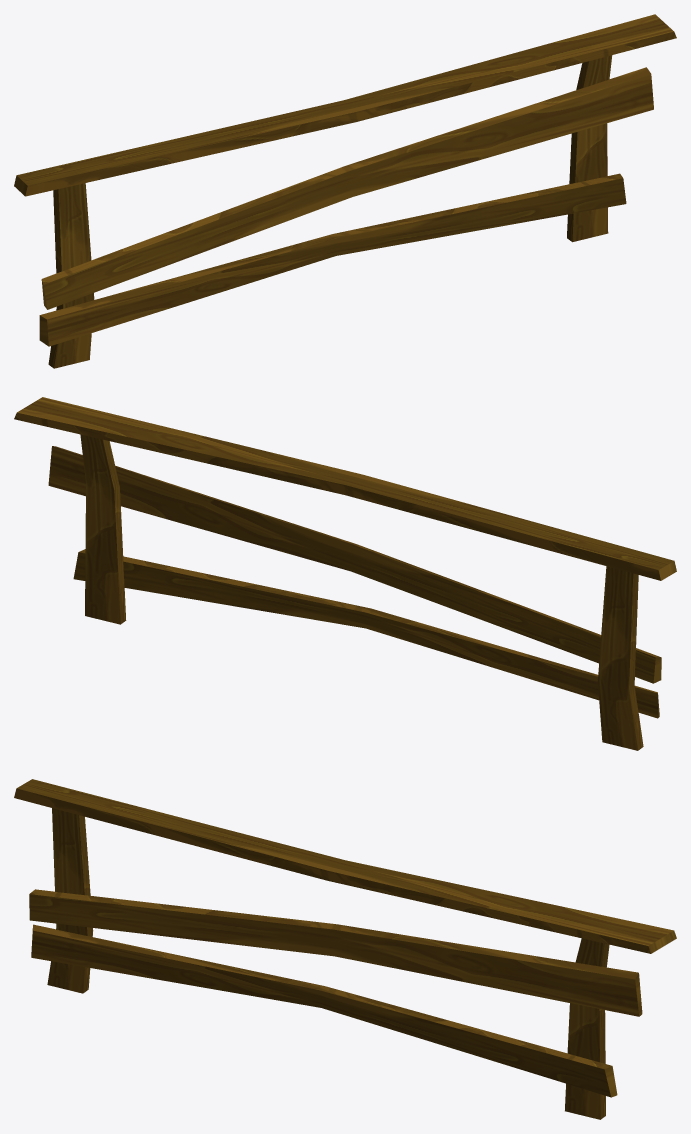
The model's file is 3_Valla_Clara.fbx.
The picture shows the model from 3 angles, top to bottom: view 1: azimuth 30°, elevation 25°; view 2: azimuth 150°, elevation 25°; view 3: azimuth 330°, elevation 25°; orthographic projection.
Parts seen in each view (by area): view 1: V_Valla3_Clara; view 2: V_Valla3_Clara; view 3: V_Valla3_Clara.
Part boxes in pixels (box(x1,y1,x2,y2)): V_Valla3_Clara: box(14, 14, 676, 368); V_Valla3_Clara: box(14, 397, 676, 750); V_Valla3_Clara: box(14, 779, 676, 1119).
Bounding box in the file's own units: 182 × 52.26 × 11.77.
